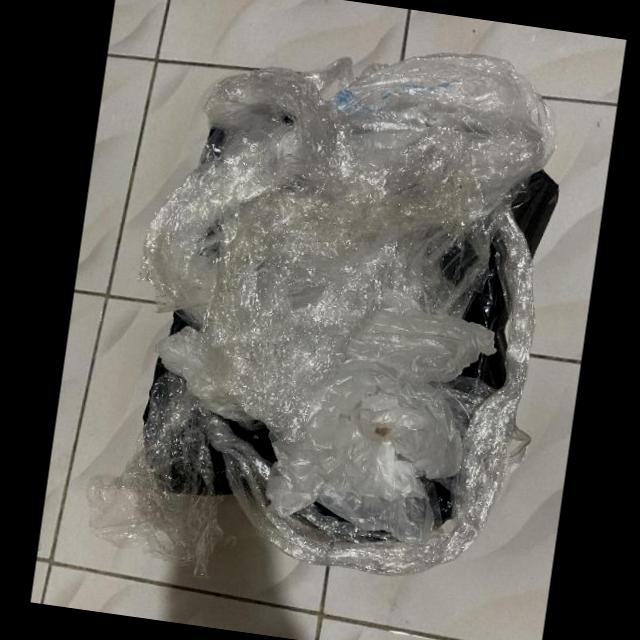tui_ni_long: (87, 214, 535, 579), (140, 53, 556, 315), (266, 309, 496, 543), (191, 192, 410, 426)
